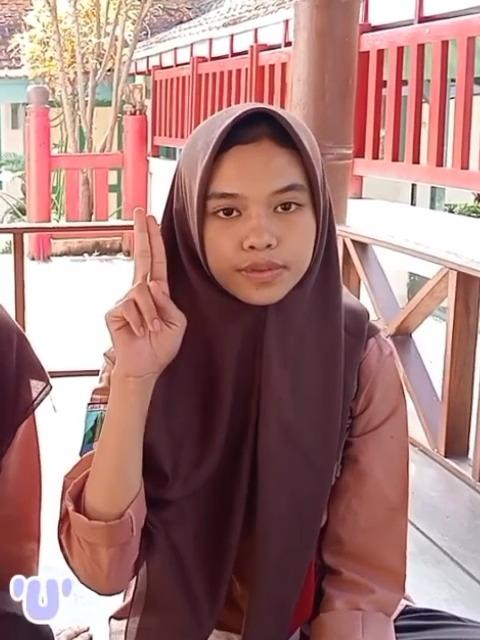U: (103, 202, 192, 374)
